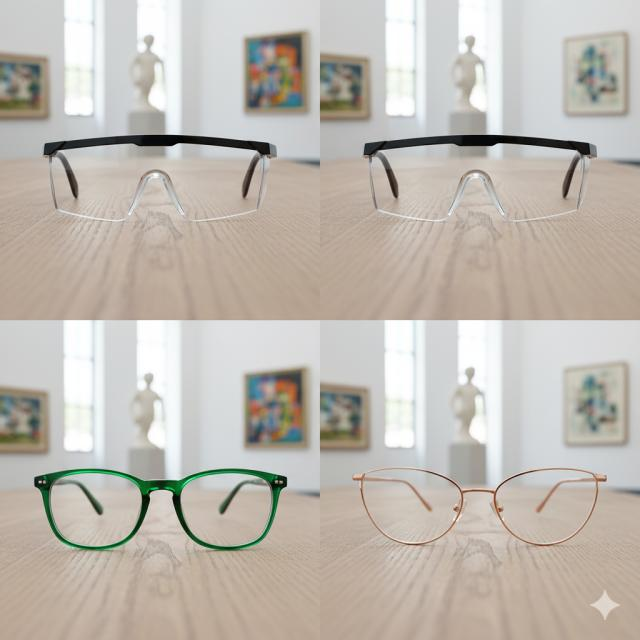oculos-epi: (363, 134, 597, 222), (42, 135, 276, 222)
sem_oculos: (34, 469, 286, 549), (353, 467, 606, 545)
